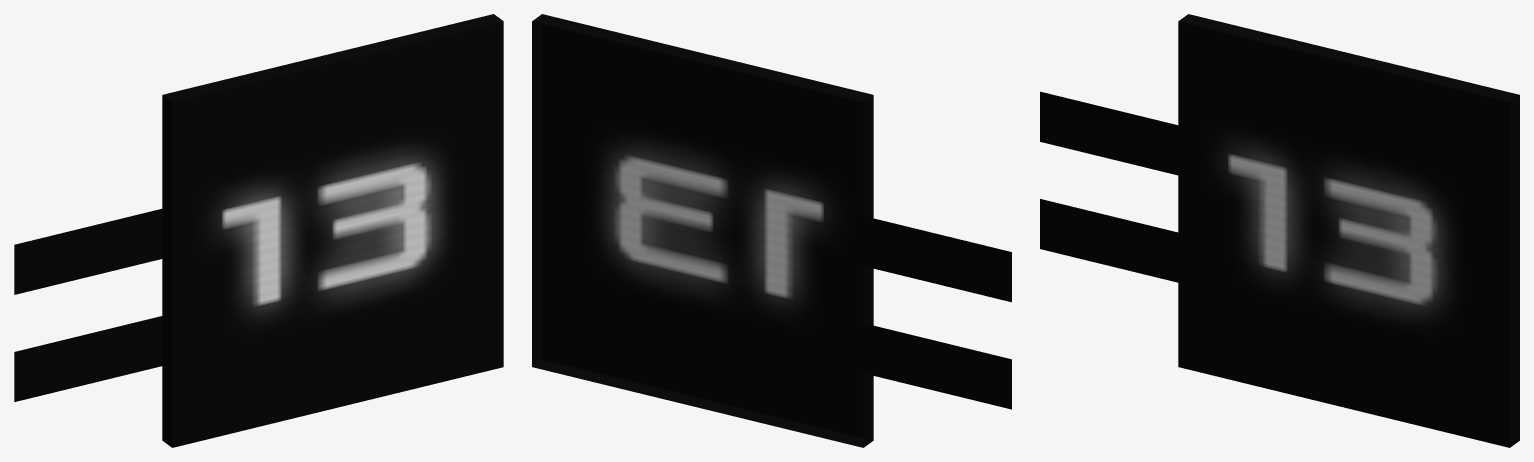
File: bb_small_right_00.fbx
The picture shows the model from 3 angles, left to right: view 1: azimuth 30°, elevation 25°; view 2: azimuth 150°, elevation 25°; view 3: azimuth 330°, elevation 25°; orthographic projection.
Visible parts, largest first — view 1: bb_small_right_00; view 2: bb_small_right_00; view 3: bb_small_right_00.
Boxes of the visible parts, <box> form: bb_small_right_00: <box>14,14,503,447</box>; bb_small_right_00: <box>532,14,1011,447</box>; bb_small_right_00: <box>1040,14,1519,447</box>.
Bounding box in the file's own units: 189 × 130 × 6.81.
